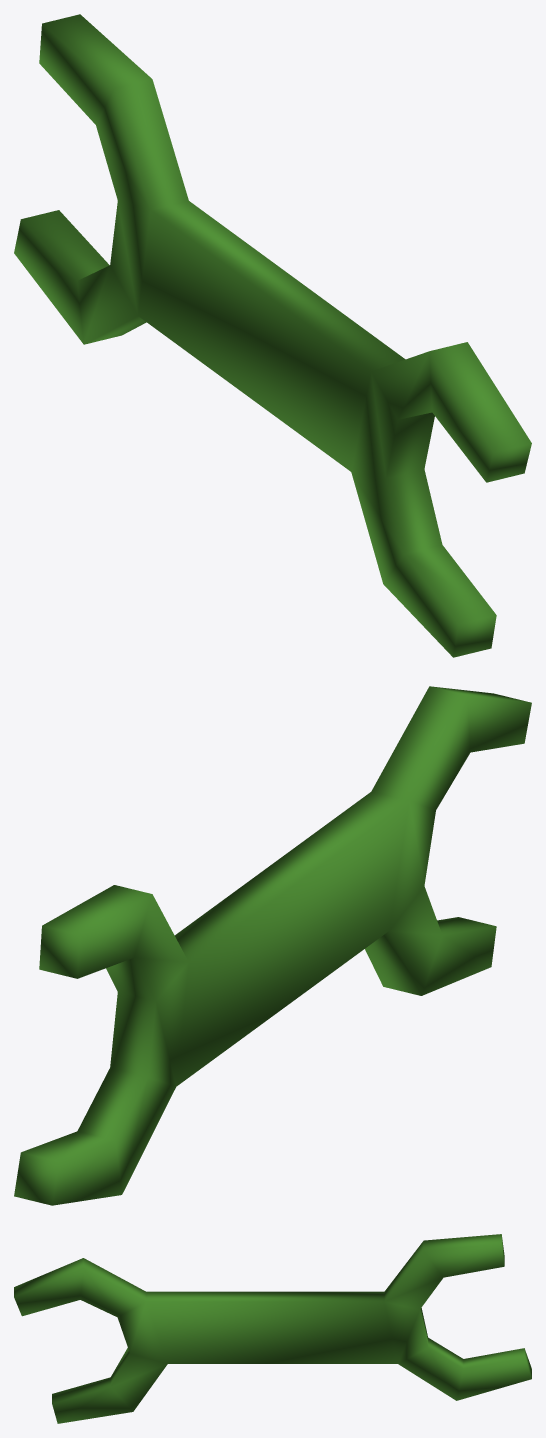
The model's file is wrench.fbx.
3 views of the same model, one above another, from view 1: azimuth 30°, elevation 25°; view 2: azimuth 150°, elevation 25°; view 3: azimuth 270°, elevation 25° (orthographic). The views are drawn at different scales.
Parts seen in each view (by area): view 1: Cube; view 2: Cube; view 3: Cube.
Boxes of the visible parts, x1=… form: Cube: x1=14, y1=14, x2=531, y2=657; Cube: x1=14, y1=686, x2=531, y2=1205; Cube: x1=14, y1=1234, x2=531, y2=1423.
Bounding box in the file's own units: 12.04 × 262 × 100.
